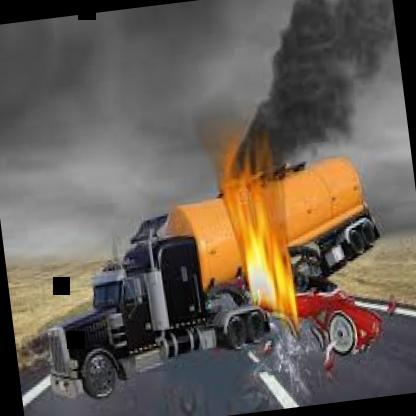fire: (172, 20, 363, 336)
